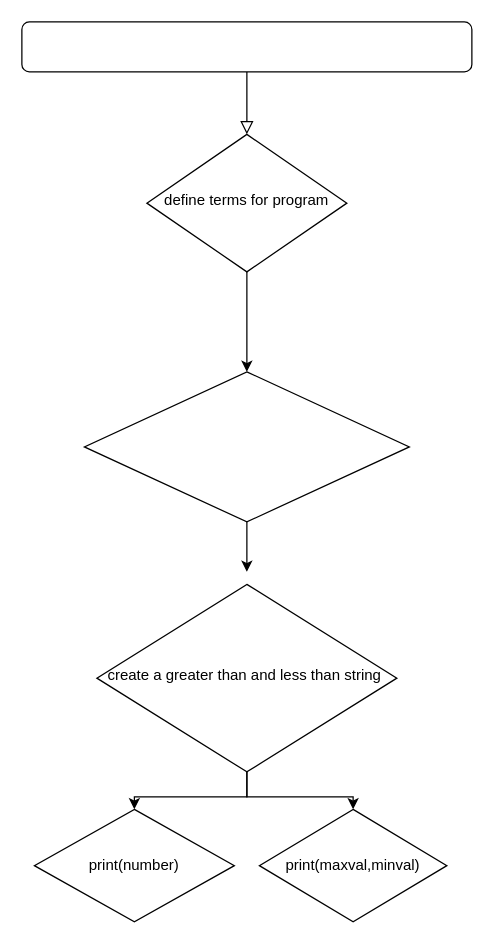
Some shapes in this 494 by 944 pixel diagram are drawn without their labels. Each missing label, with the centre of its shape:
create if command to set rules for the program: the point at 246,446
Create range of commands that the program will ask: the point at 246,46
